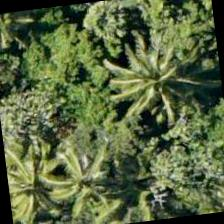Kelapa_Sawit: (110, 25, 210, 125), (34, 128, 135, 223), (2, 126, 82, 223), (160, 160, 223, 219)
